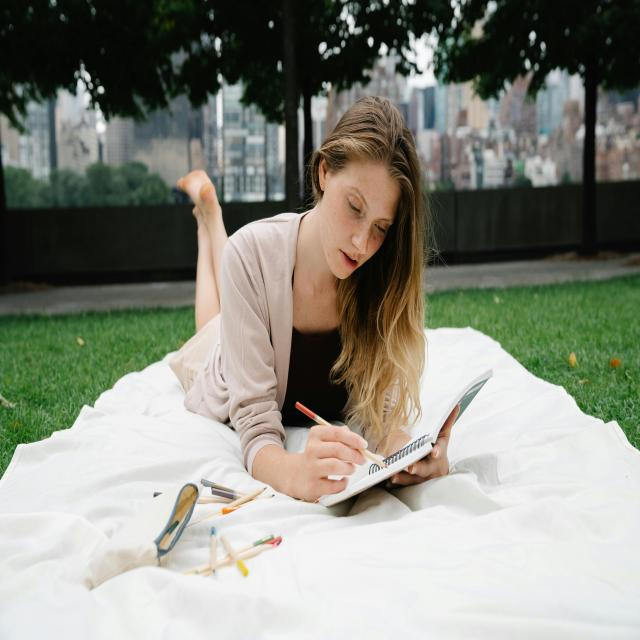lie: (164, 98, 439, 505)
